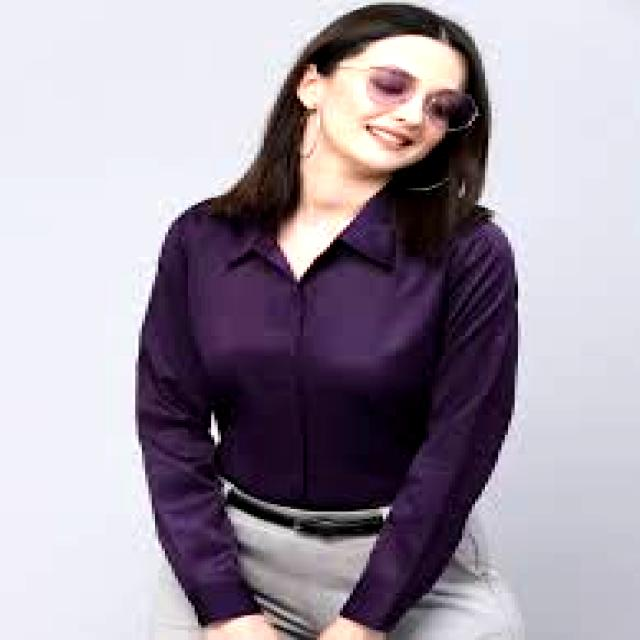face: (301, 3, 471, 172)
lower-wear: (192, 481, 524, 640)
top-wear: (136, 196, 517, 631)
